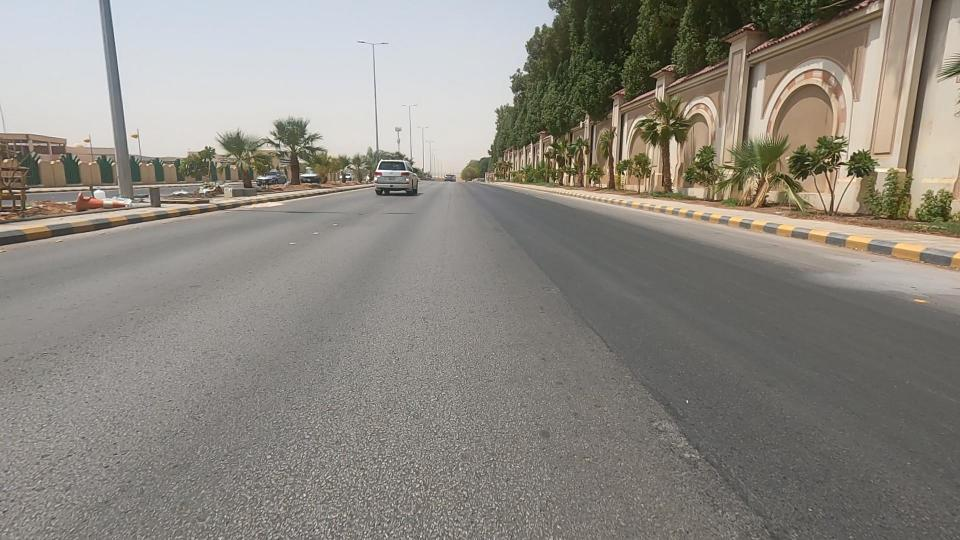BROKEN_SIGNAGE: (29, 181, 162, 227)
GARBAGE: (143, 175, 231, 213)
